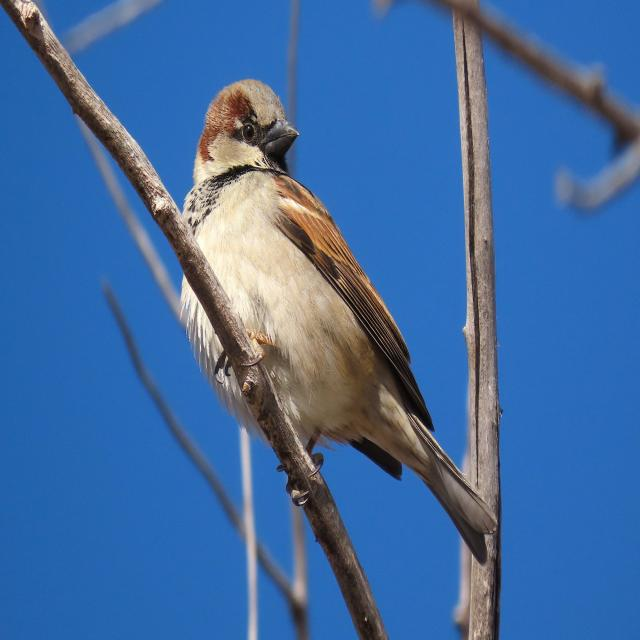Sparrow: (174, 78, 496, 570)
